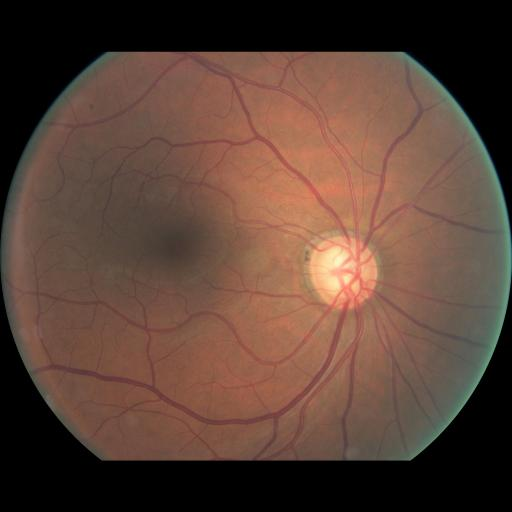Optic Cup: (330, 252, 361, 293)
Optic Disc: (309, 235, 378, 310)
